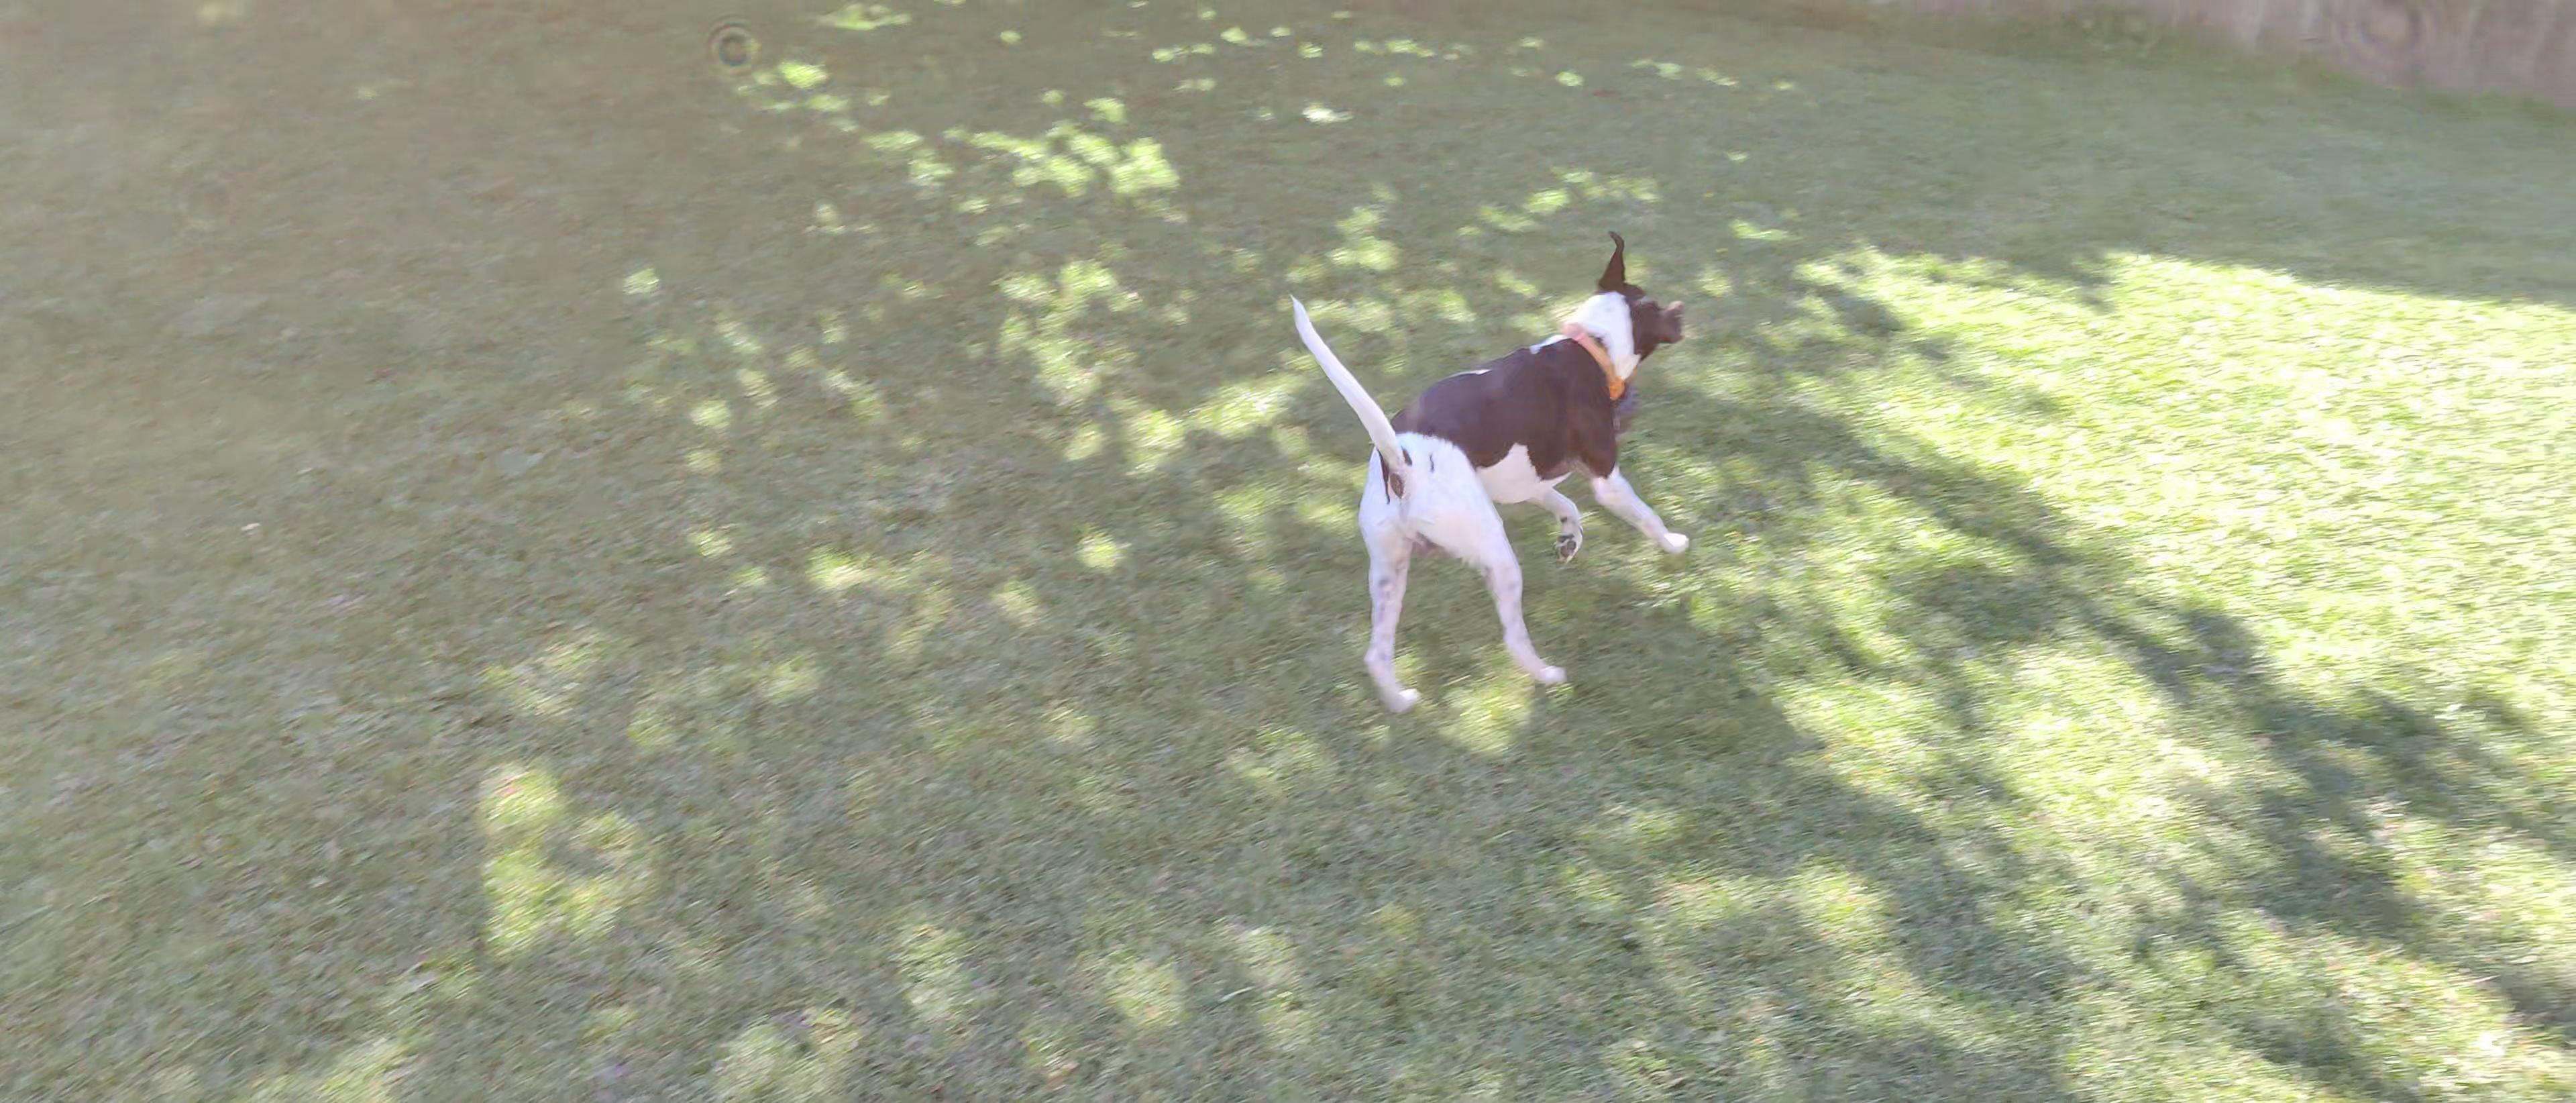Dog: (1267, 215, 1710, 723)
